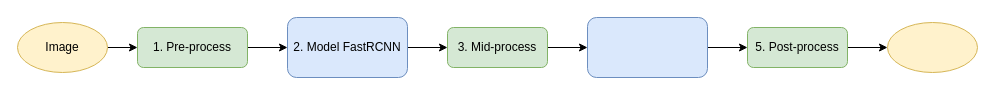
Image size: 995x95. Some labels were removed from this diagram. The shapes that lost their labels are listed below. From the top down, each one's centre as x and y in pixels, then its label:
the point at 647,47: 4. Model CRNN (BeLSTM)
the point at 932,47: Output
